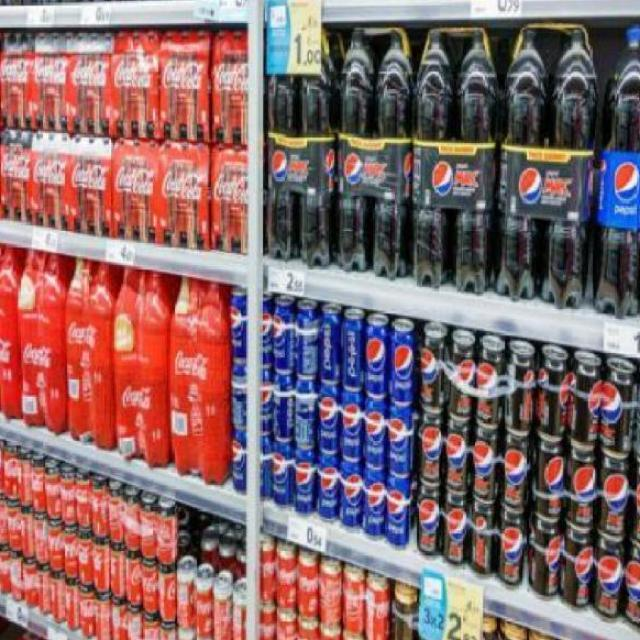Drinks: (540, 26, 596, 307), (594, 23, 640, 317), (498, 29, 547, 301), (169, 274, 230, 485), (455, 29, 499, 294), (114, 264, 170, 467), (413, 31, 453, 288), (374, 29, 413, 279), (66, 256, 115, 453), (335, 26, 374, 272), (19, 247, 68, 437), (300, 30, 338, 268), (267, 31, 301, 261), (158, 31, 209, 141), (158, 143, 209, 250), (112, 33, 159, 140), (111, 137, 158, 242), (69, 32, 112, 135), (69, 134, 112, 236), (211, 31, 249, 146), (211, 146, 249, 253), (600, 355, 638, 459), (0, 239, 22, 418), (32, 131, 69, 231), (570, 349, 604, 450), (34, 32, 68, 132), (536, 344, 570, 444), (598, 451, 632, 542), (0, 32, 32, 128), (527, 516, 562, 602), (506, 340, 536, 440), (532, 437, 566, 525), (0, 130, 32, 223), (566, 443, 598, 533), (595, 534, 627, 624), (563, 526, 595, 614), (477, 334, 506, 429), (501, 428, 532, 514), (420, 321, 449, 411), (474, 420, 503, 505), (497, 507, 526, 592), (449, 329, 476, 420), (471, 497, 498, 580), (389, 318, 415, 404), (446, 413, 473, 495), (443, 488, 470, 570), (416, 484, 444, 560), (366, 312, 390, 399), (418, 410, 446, 484), (386, 401, 413, 477), (386, 474, 413, 550), (319, 304, 343, 385), (296, 298, 319, 381), (344, 308, 366, 393), (272, 296, 295, 376), (363, 467, 387, 542), (363, 395, 387, 469), (318, 380, 341, 455), (340, 388, 363, 462), (340, 459, 363, 533), (295, 377, 318, 450), (294, 448, 317, 520), (271, 439, 294, 510), (273, 372, 295, 443), (318, 454, 340, 525), (625, 543, 640, 636), (231, 286, 246, 364), (231, 365, 246, 441), (231, 432, 246, 495), (630, 456, 640, 549), (632, 361, 640, 454)
